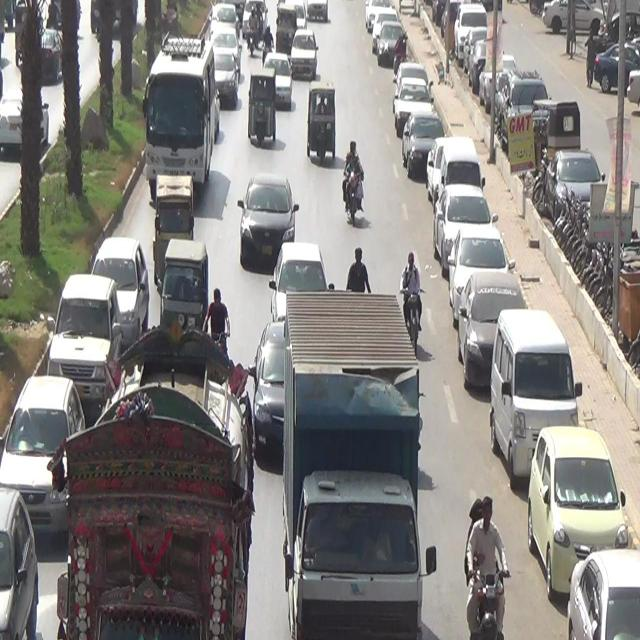car: (2, 371, 94, 543), (43, 260, 115, 416), (232, 163, 307, 272), (86, 227, 153, 338), (0, 491, 43, 640), (242, 326, 293, 449), (266, 236, 331, 329), (258, 36, 298, 118), (212, 40, 248, 114), (287, 28, 320, 92), (204, 2, 248, 43)
motorbike: (463, 487, 518, 640), (395, 238, 432, 348), (334, 127, 372, 227), (207, 288, 241, 364), (343, 238, 376, 310)
truck: (271, 274, 425, 638), (60, 373, 253, 640)
